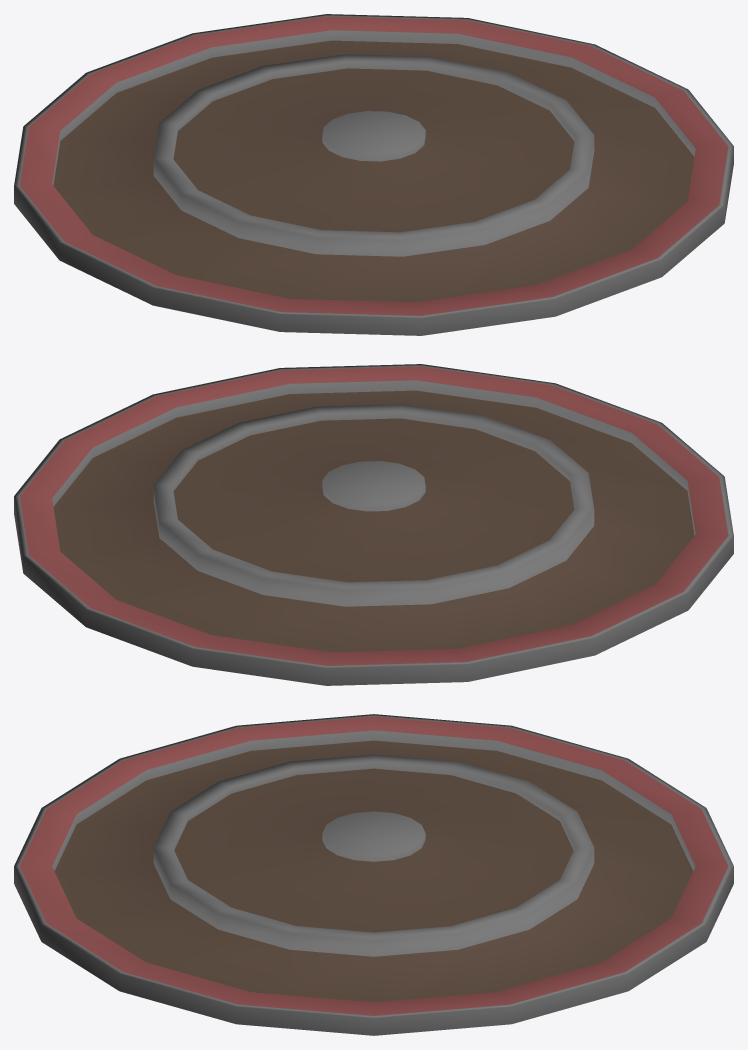
The model's file is Roundabout_01.fbx.
3 views of the same model, one above another, from view 1: azimuth 30°, elevation 25°; view 2: azimuth 150°, elevation 25°; view 3: azimuth 270°, elevation 25° (orthographic).
Parts seen in each view (by area): view 1: Roundabout_01; view 2: Roundabout_01; view 3: Roundabout_01.
Boxes of the visible parts, x1,y1,x2,y2 form: Roundabout_01: (14, 14, 733, 335); Roundabout_01: (14, 364, 733, 685); Roundabout_01: (14, 714, 733, 1035).
Size of the model in its own units: 9.32 by 0.7216 by 9.32.
